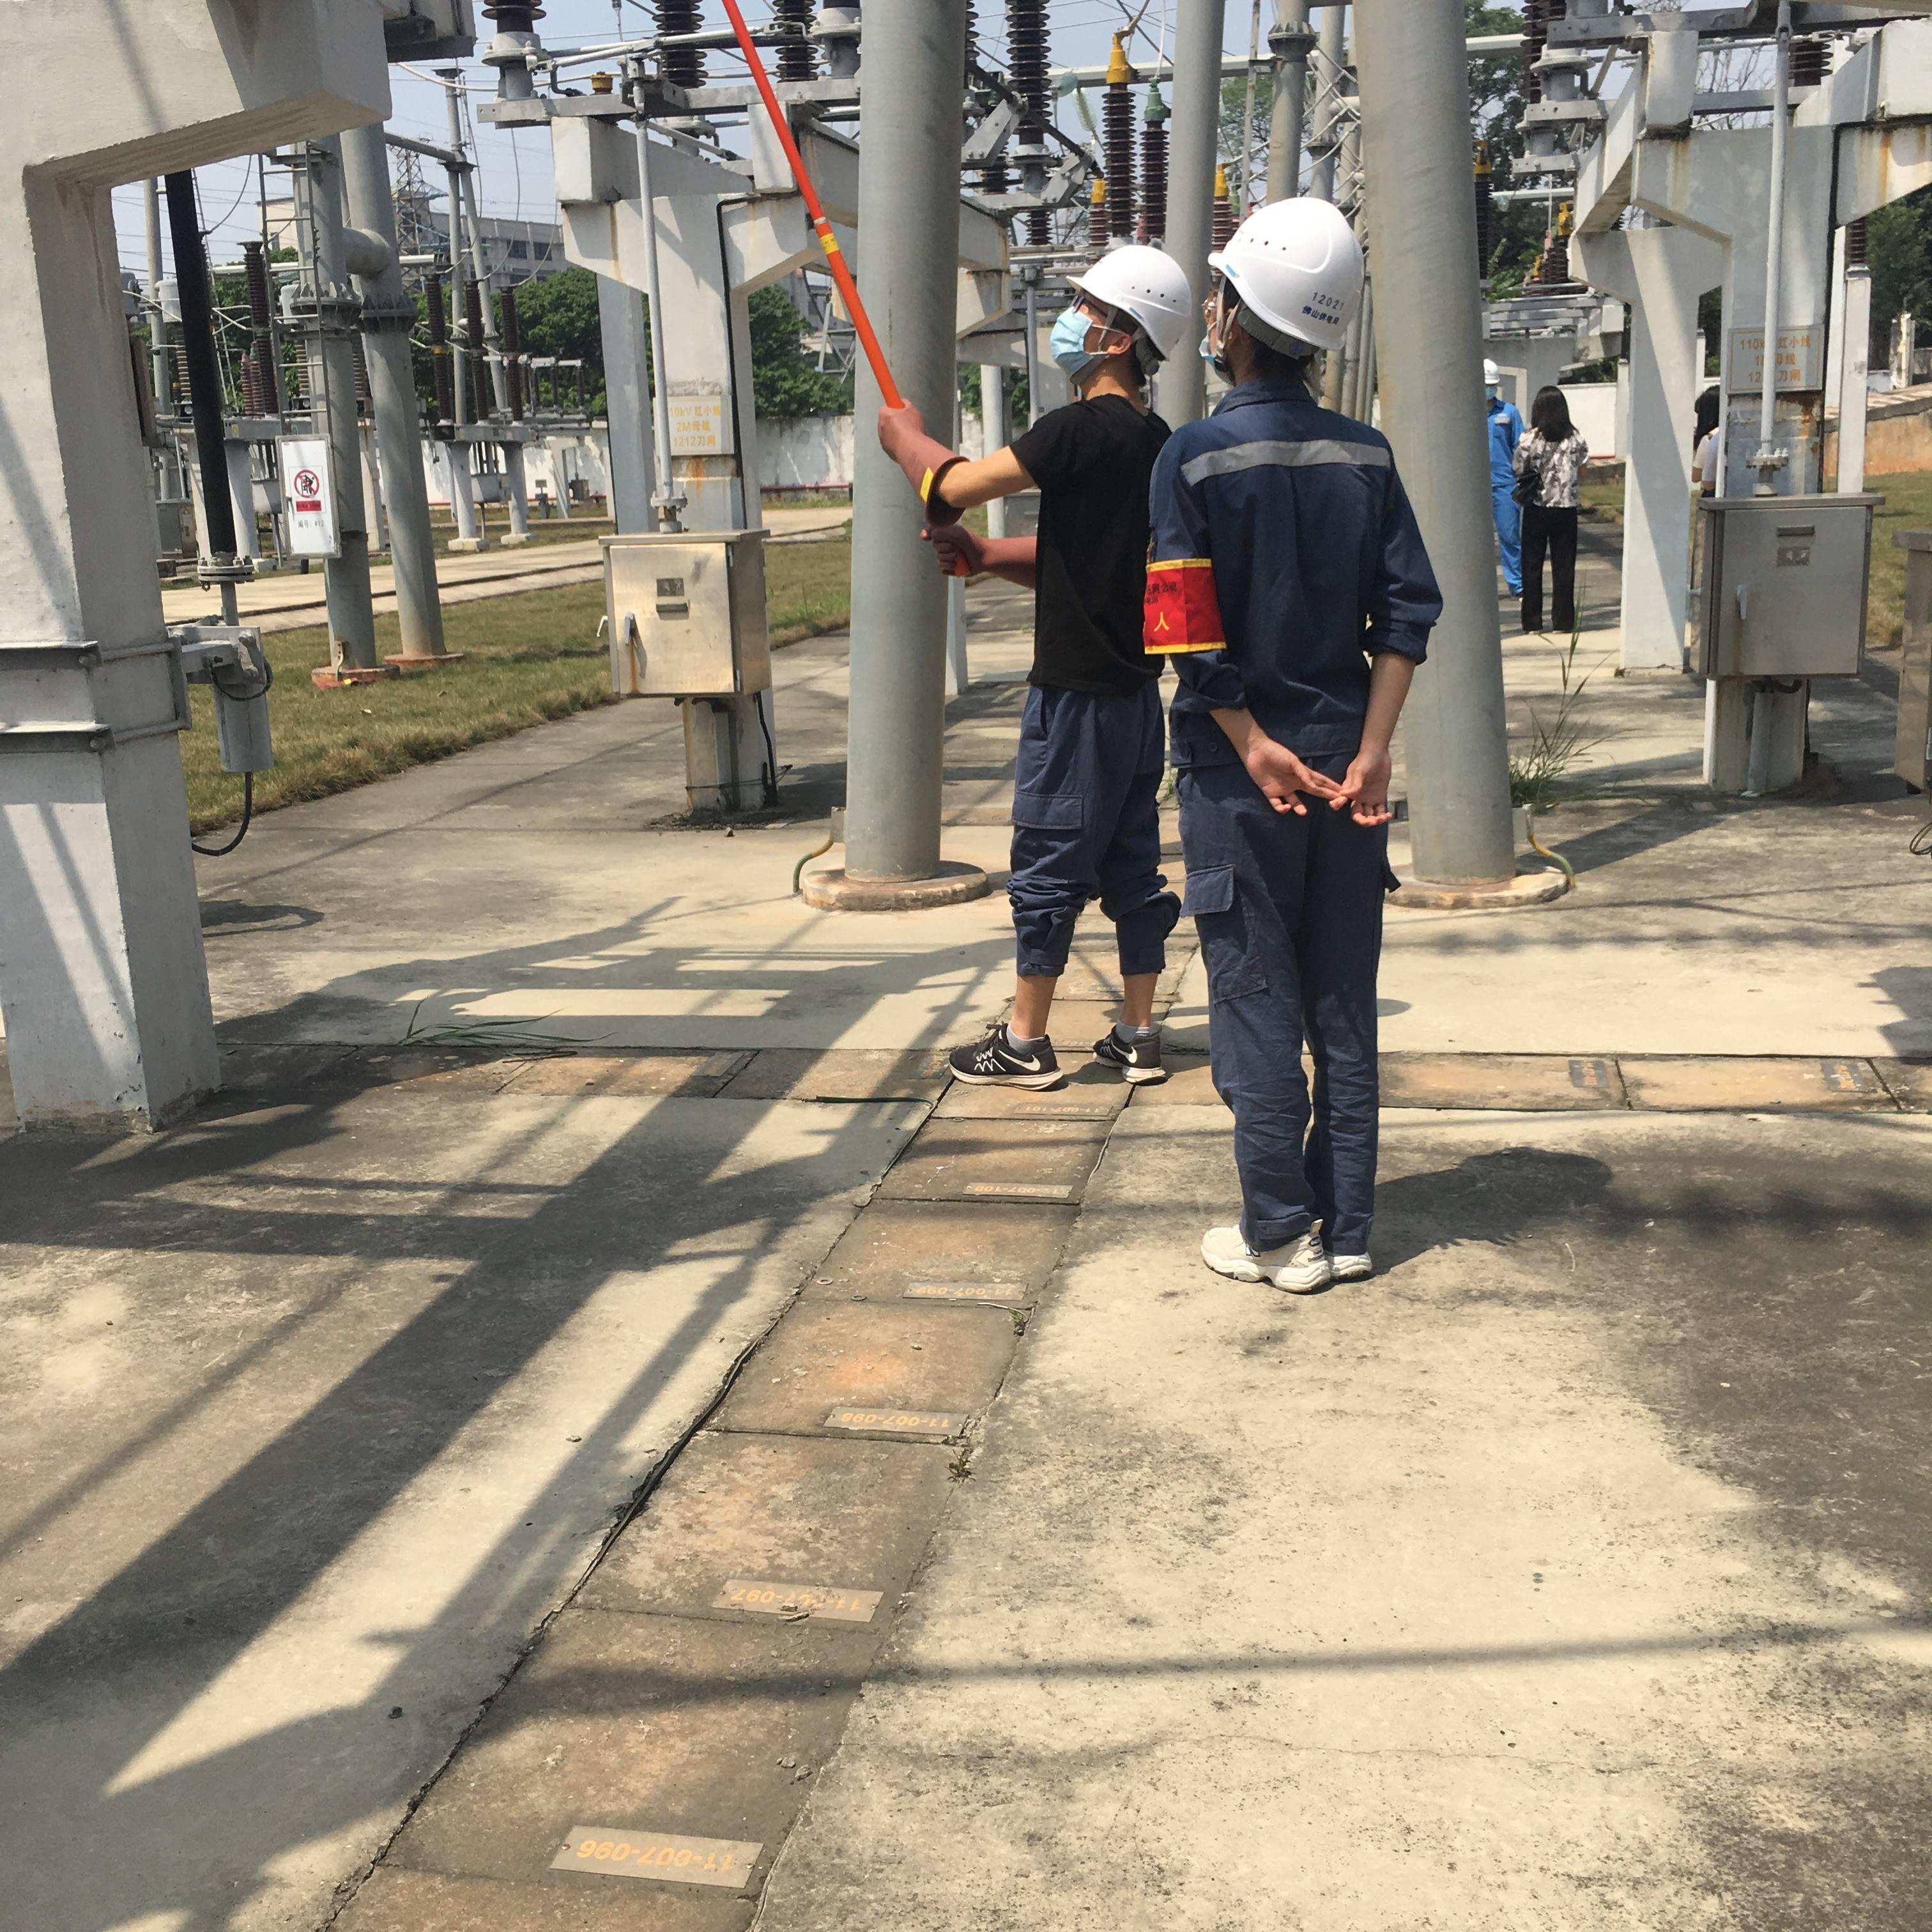downsuit: (1185, 796, 1398, 1244), (1003, 690, 1171, 975)
upcloth: (1014, 395, 1162, 688)
upsuit: (1143, 386, 1442, 754)
wrongbottom: (1005, 931, 1079, 1054), (1109, 924, 1173, 1046)
wrongtop: (1348, 621, 1419, 778), (1205, 674, 1281, 793)
